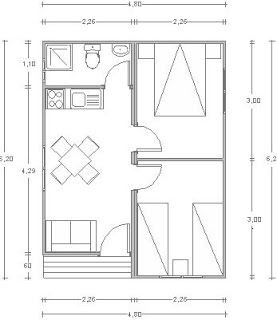door: (96, 219, 133, 259), (128, 125, 166, 156), (127, 164, 163, 193)
room: (37, 40, 138, 258), (127, 158, 229, 283), (129, 38, 227, 163)
wall: (43, 38, 226, 48), (220, 39, 227, 279), (129, 42, 142, 126), (131, 187, 141, 282), (131, 156, 225, 165), (39, 188, 49, 256), (42, 249, 101, 260), (41, 84, 48, 147), (136, 271, 161, 284), (44, 83, 107, 88), (206, 273, 221, 282)
window: (40, 150, 51, 193), (40, 56, 49, 82)
